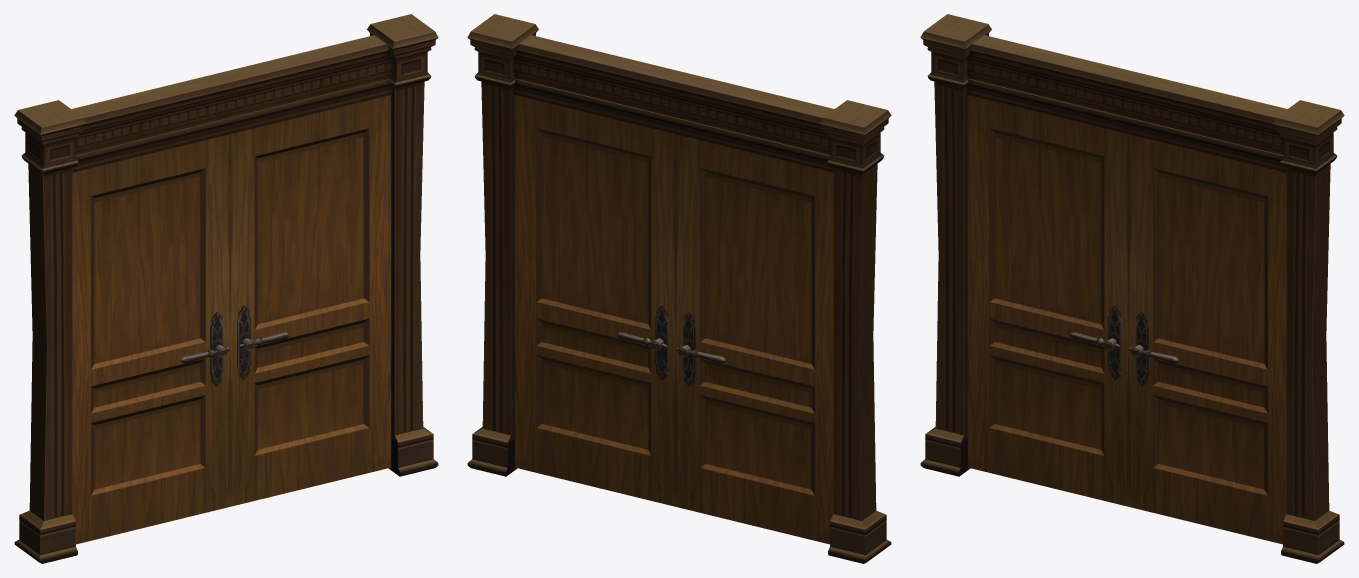
File: event_door_double.glb
The picture shows the model from 3 angles, left to right: view 1: azimuth 30°, elevation 25°; view 2: azimuth 150°, elevation 25°; view 3: azimuth 330°, elevation 25°; orthographic projection.
Parts seen in each view (by area): view 1: Door_R, Door_L, DoubleDoorframe; view 2: Door_R, Door_L, DoubleDoorframe; view 3: Door_L, Door_R, DoubleDoorframe.
Boxes of the visible parts, box(x1,y1,x2,y2) form: Door_R: box(230, 95, 391, 506); Door_L: box(72, 134, 230, 544); DoubleDoorframe: box(14, 14, 438, 563); Door_R: box(514, 95, 675, 506); Door_L: box(675, 134, 833, 544); DoubleDoorframe: box(467, 14, 891, 563); Door_L: box(967, 95, 1128, 506); Door_R: box(1128, 134, 1286, 544); DoubleDoorframe: box(920, 14, 1344, 563).
Bounding box in the file's own units: 0.0255 × 0.0267 × 0.00291.
1 material, 1 textured.
